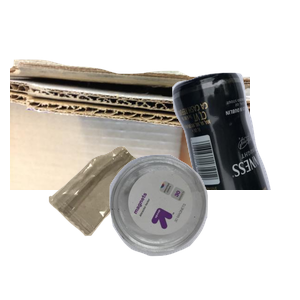cardboard: (10, 57, 250, 237)
glass: (106, 70, 300, 250)
plastic: (107, 152, 300, 300)
trash: (46, 144, 188, 300)
